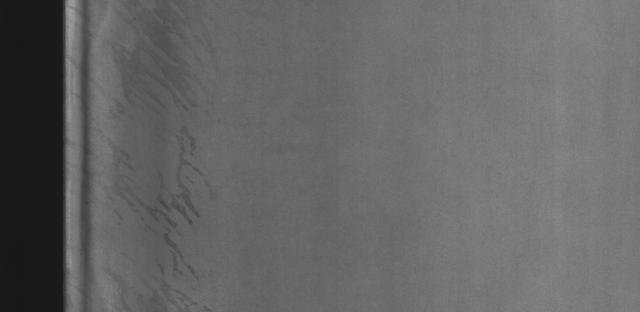water_spot: (110, 7, 241, 302)
